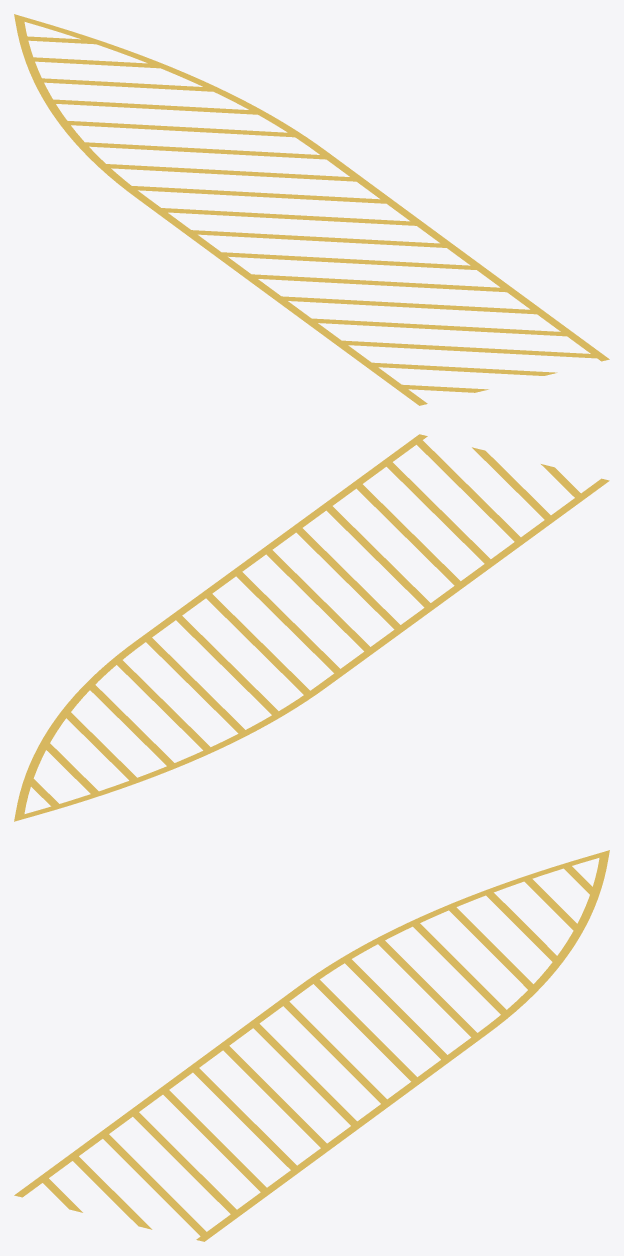
Rendered from RoadLines_End_Cap.fbx.
The picture shows the model from 3 angles, top to bottom: view 1: azimuth 30°, elevation 25°; view 2: azimuth 150°, elevation 25°; view 3: azimuth 330°, elevation 25°; orthographic projection.
Visible parts, largest first — view 1: RoadLines_End_Cap; view 2: RoadLines_End_Cap; view 3: RoadLines_End_Cap.
Boxes of the visible parts, bbox=[...] form: RoadLines_End_Cap: bbox=[14, 14, 609, 405]; RoadLines_End_Cap: bbox=[14, 434, 609, 821]; RoadLines_End_Cap: bbox=[14, 850, 609, 1241].
Bounding box in the file's own units: 5.23 × 0.0707 × 23.84.
